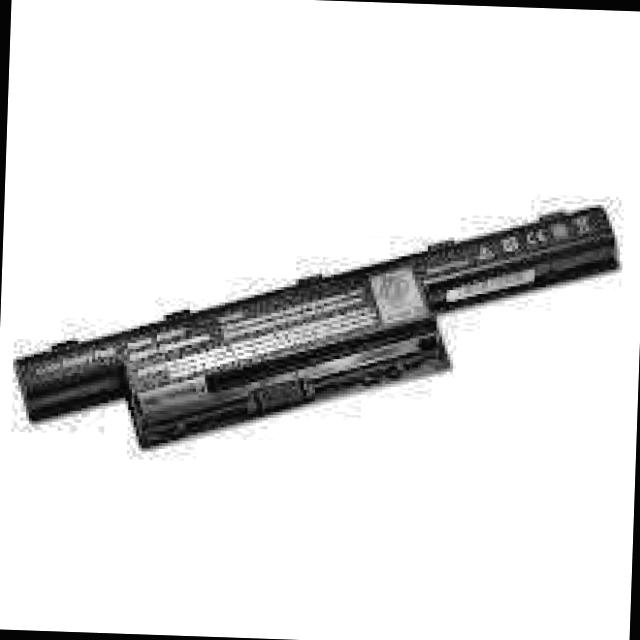Battery: (19, 190, 624, 467)
